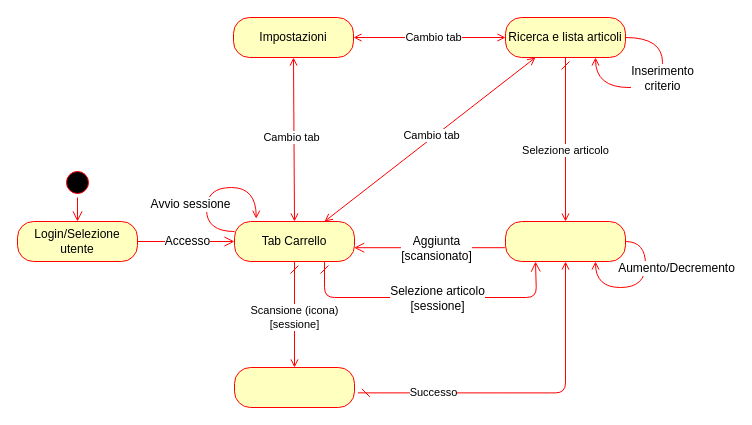
Some shapes in this 752 by 425 pixel diagram are drawn without their labels. The shapes that lost their labels are listed below. From the top down, each one's centre as x and y in pixels, then its label:
At point (565, 241): "Dettaglio articolo".
At point (294, 387): "Scansione".
